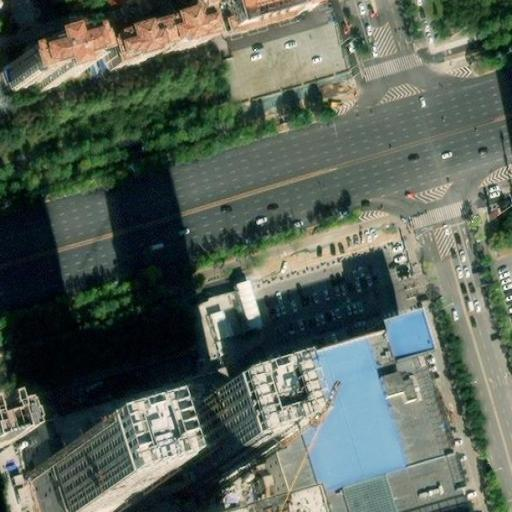building: (241, 330, 475, 512), (169, 395, 253, 477), (48, 431, 132, 512), (97, 10, 200, 73), (0, 43, 83, 93)
